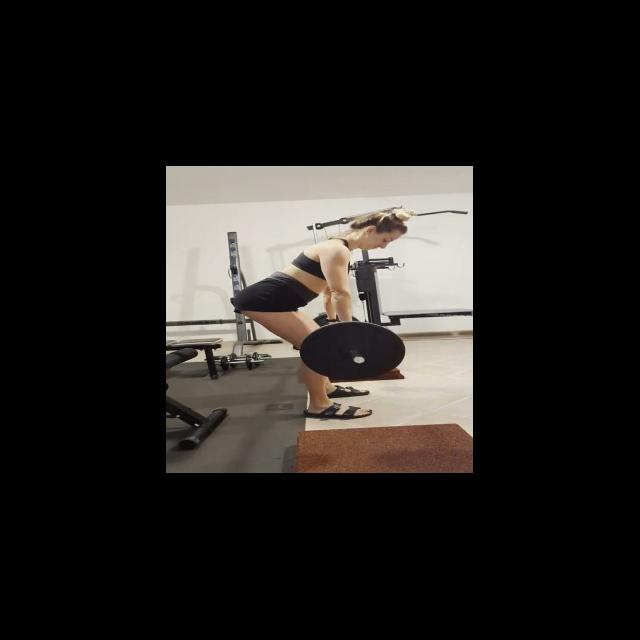barbell: (298, 320, 408, 382)
